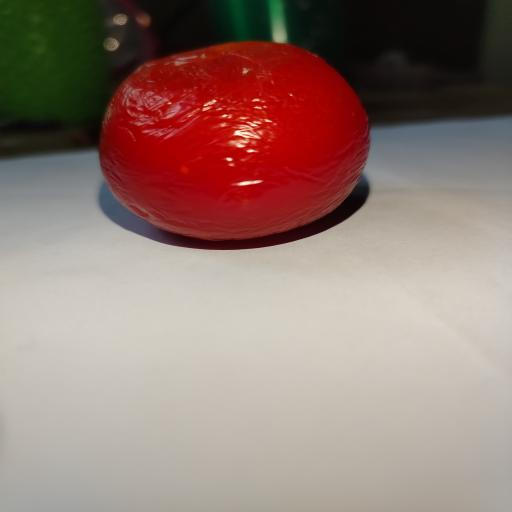spoiled: (100, 42, 369, 240)
